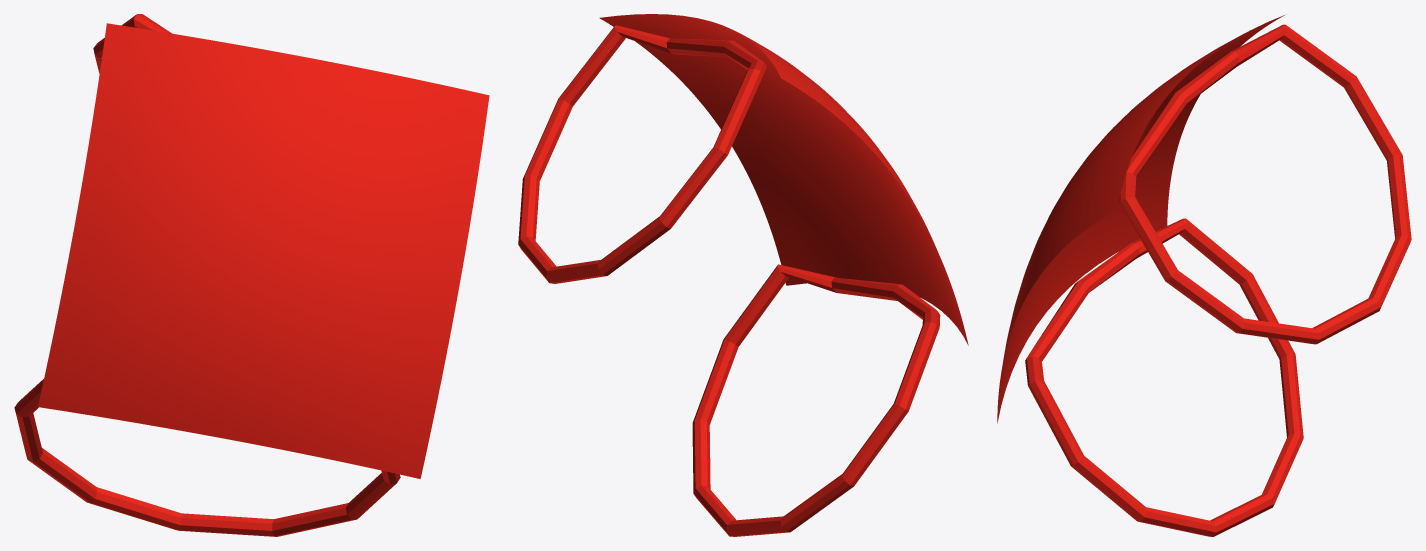
File: maskred.glb
The picture shows the model from 3 angles, left to right: view 1: azimuth 30°, elevation 25°; view 2: azimuth 150°, elevation 25°; view 3: azimuth 270°, elevation 25°; orthographic projection. The views are drawn at different scales.
Parts seen in each view (by area): view 1: SurfPatch, Torus.002, Torus; view 2: SurfPatch, Torus.002, Torus; view 3: SurfPatch, Torus, Torus.002.
Boxes of the visible parts, left/top/right/bottom form: SurfPatch: left=38, top=23, right=489, bottom=478; Torus.002: left=14, top=379, right=400, bottom=536; Torus: left=93, top=14, right=171, bottom=73; SurfPatch: left=599, top=14, right=968, bottom=345; Torus.002: left=692, top=264, right=940, bottom=536; Torus: left=518, top=25, right=766, bottom=283; SurfPatch: left=997, top=15, right=1284, bottom=423; Torus: left=1119, top=24, right=1411, bottom=344; Torus.002: left=1025, top=218, right=1303, bottom=536.
Size of the model in its own units: 2.14 by 2.42 by 1.94.
